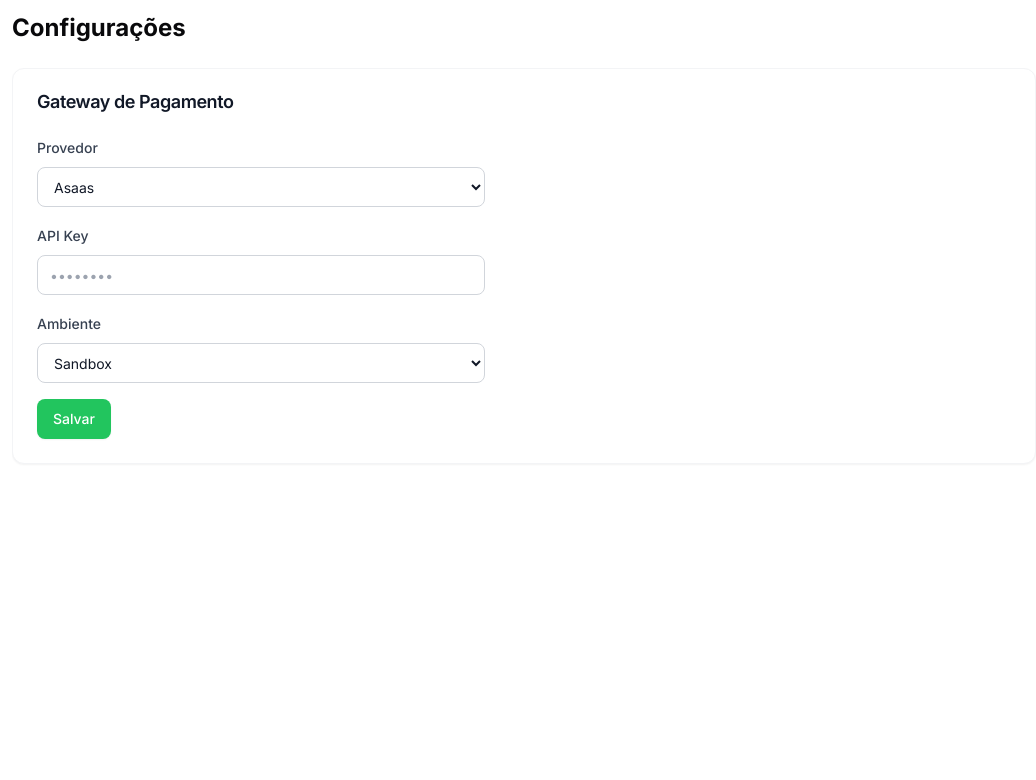
Test: SettingsPage — Multi-Provider › validation › clears validation errors when fields are filled
The width and height of the screenshot is (1036, 780).
Expected: the password field labelled "API Key" is shown, [37, 255, 485, 295]
# First submit to trigger validation
Click the button "Salvar" at (74, 419), box [37, 399, 111, 439]
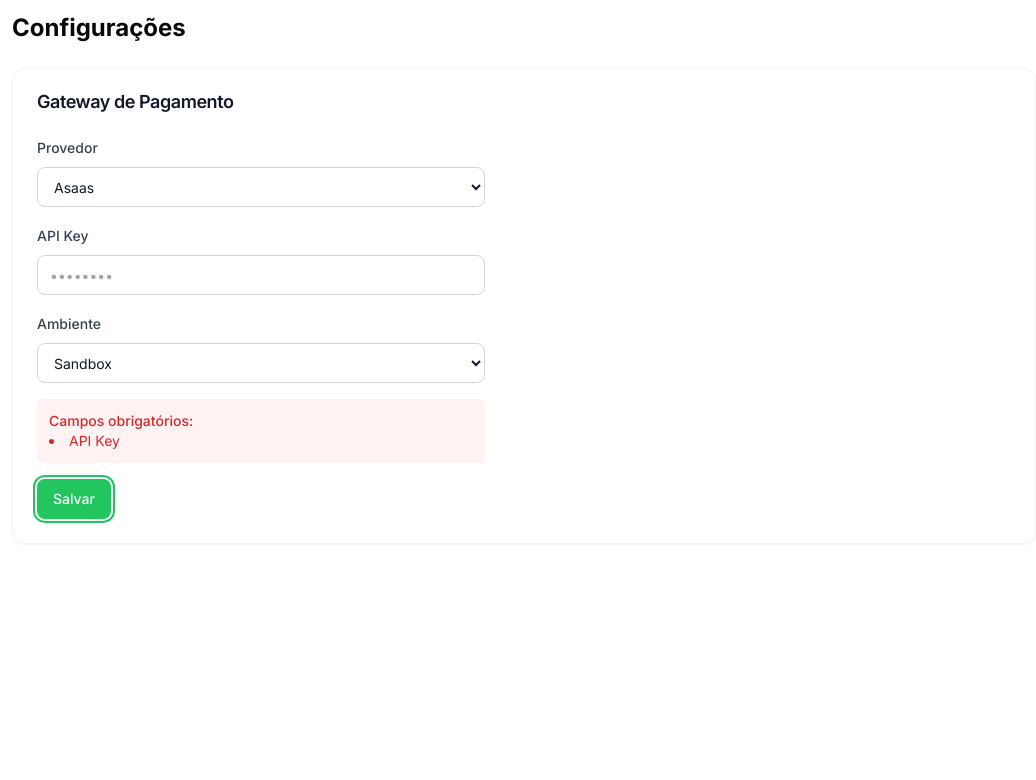
Expected: the text "Campos obrigatórios:" is shown, [49, 412, 193, 429]
# Type to clear validation
Type "key" into the password field labelled "API Key" at (261, 275), box [37, 255, 485, 295]
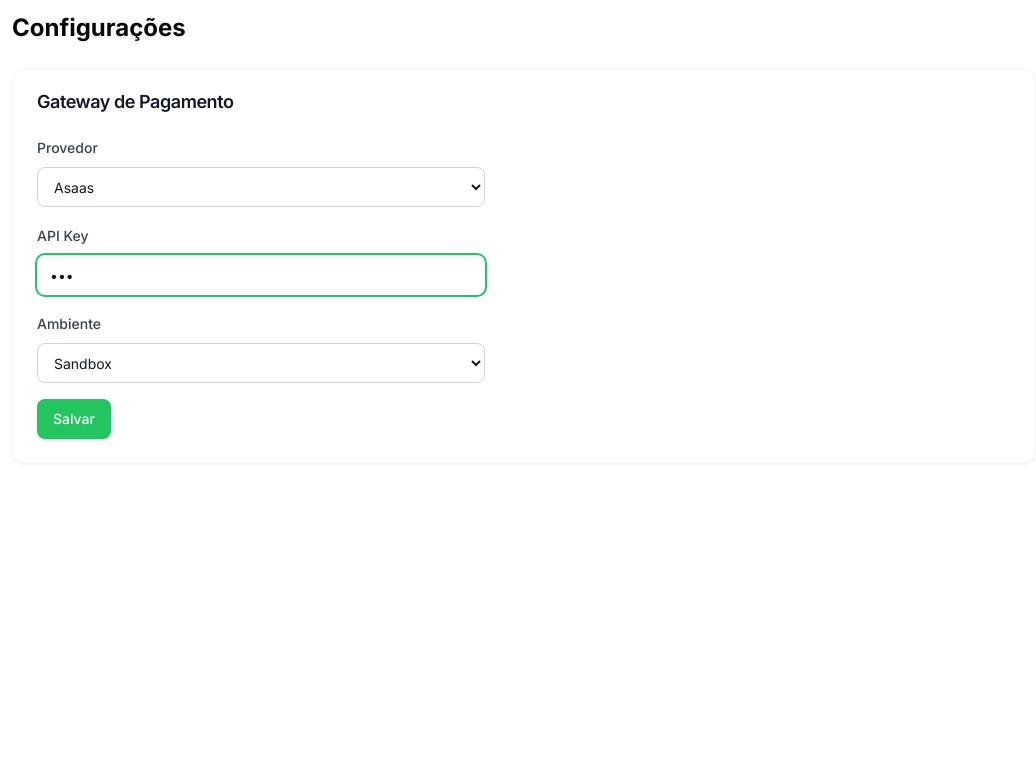
Expected: the text "Campos obrigatórios:" is gone
